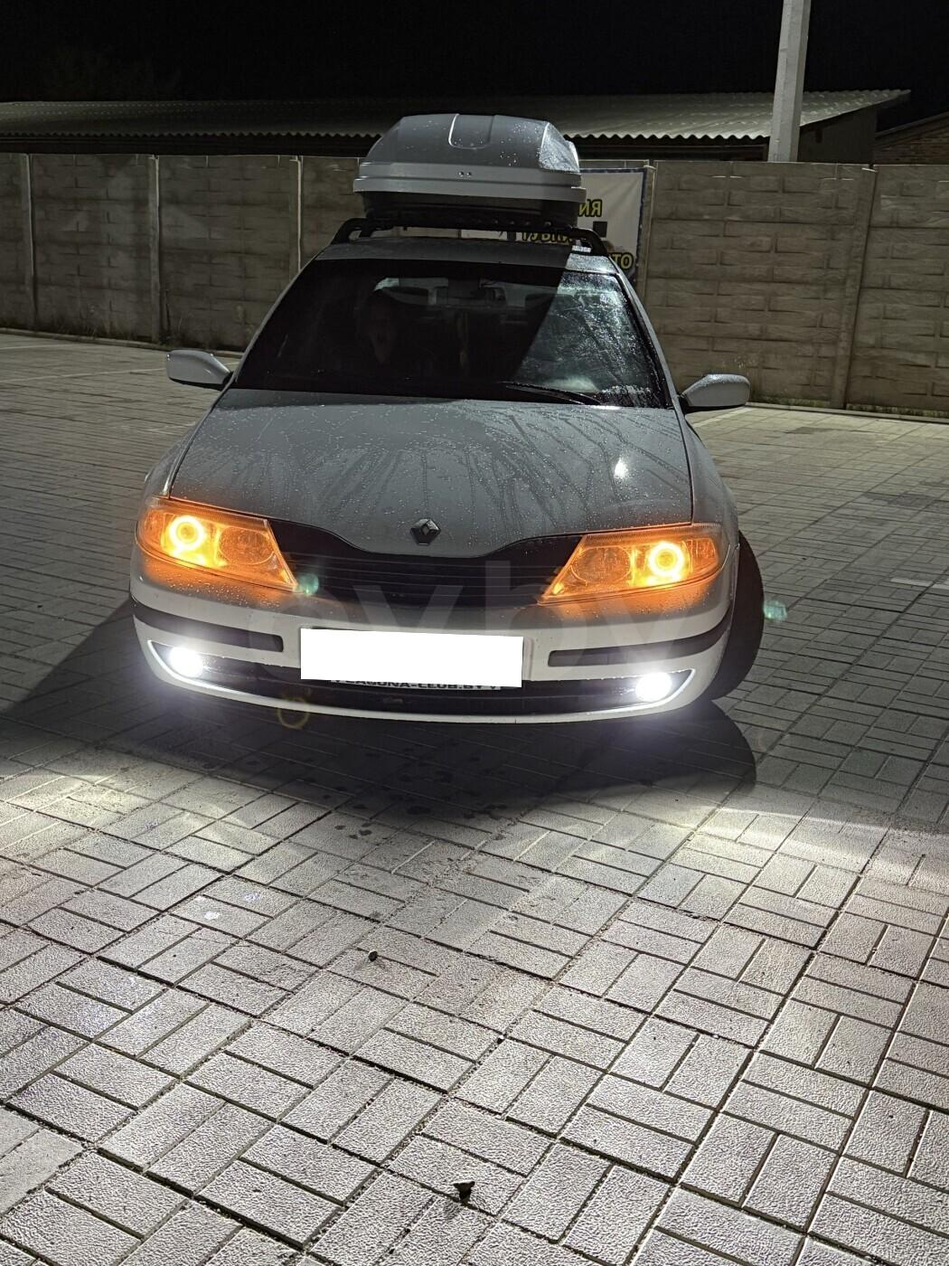Laguna_2001-2005: (130, 210, 762, 723)
